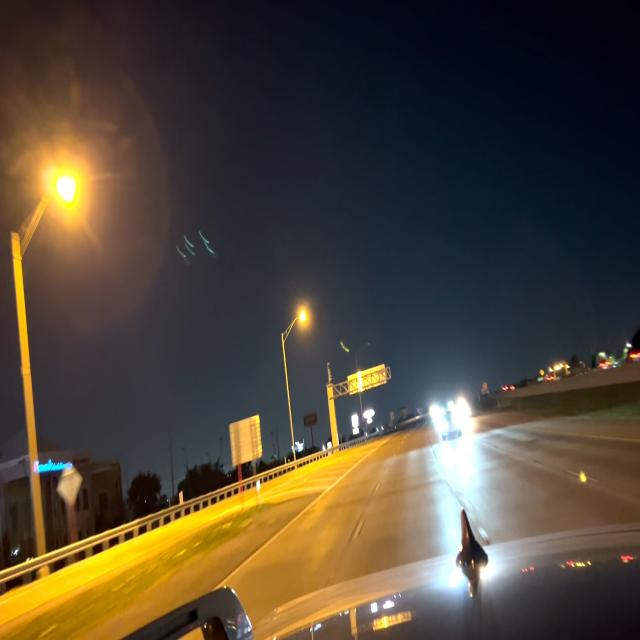back-of-sign: (229, 414, 265, 468), (58, 461, 83, 512)
